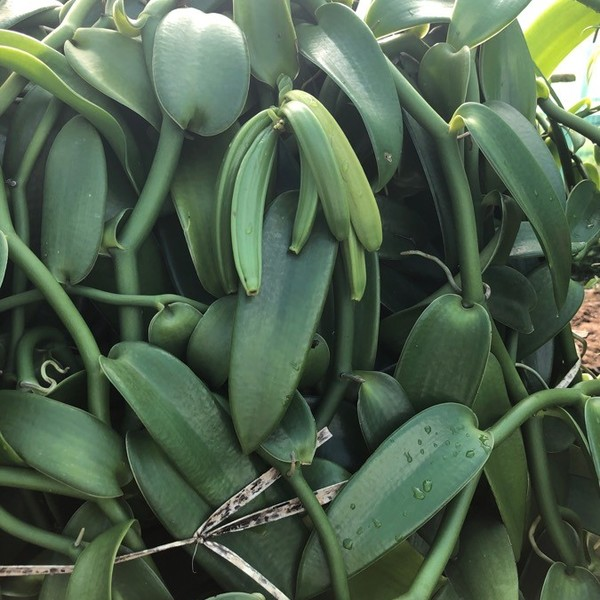obstacle: (46, 27, 530, 572)
